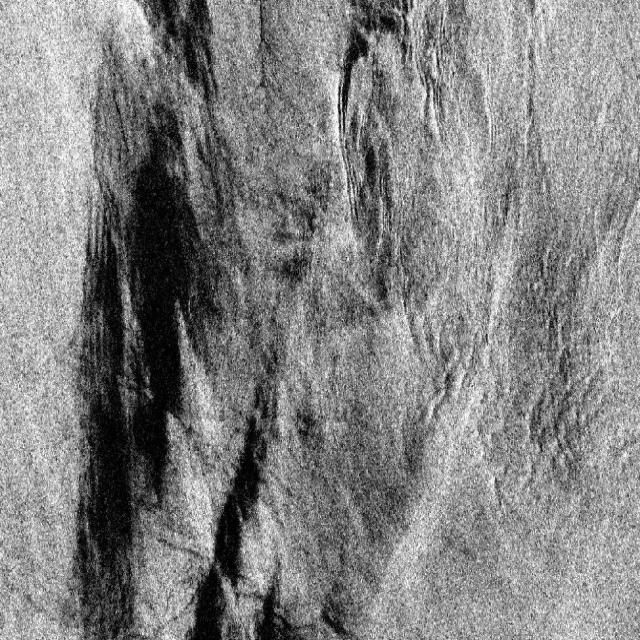look-alike: (66, 74, 230, 640), (338, 0, 429, 309), (198, 346, 281, 638), (138, 1, 224, 109), (312, 500, 363, 640), (249, 564, 311, 640)
